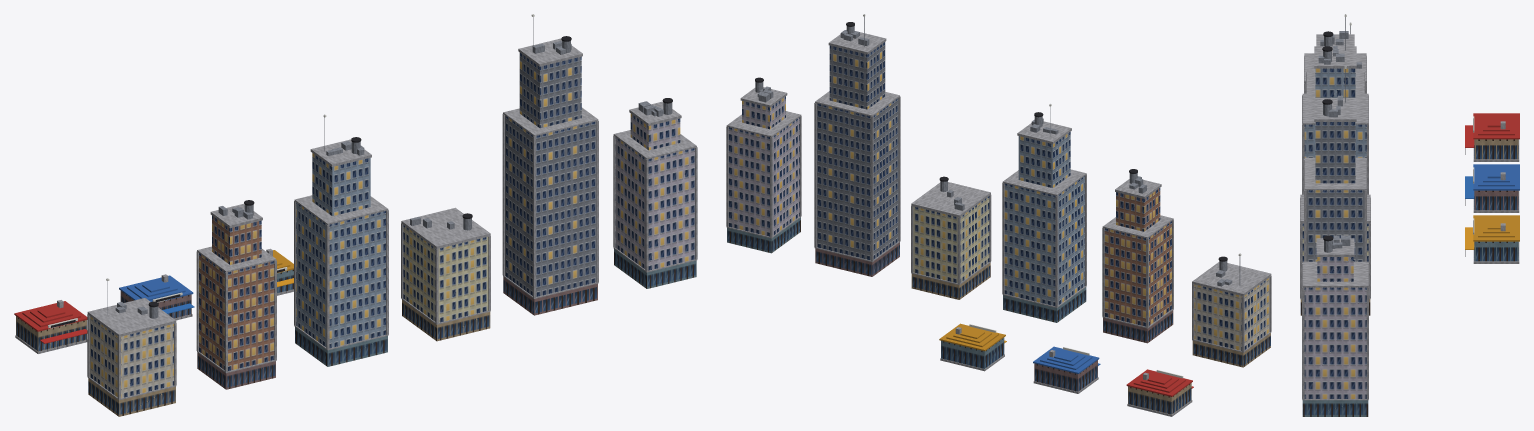
Rendered from buildings.glb.
3 renders of one model, left to right at view 1: azimuth 30°, elevation 25°; view 2: azimuth 150°, elevation 25°; view 3: azimuth 270°, elevation 25°, orthographic. The views are drawn at different scales.
Visible parts, largest first — view 1: Bld4, Bld2, Bld5, Bld1, Bld3, Bld0, Shop0, Shop1, Shop2; view 2: Bld4, Bld2, Bld5, Bld1, Bld3, Bld0, Shop1, Shop0, Shop2; view 3: Bld5, Bld4, Bld2, Shop0, Shop1, Shop2, Bld1, Bld3, Bld0.
Boxes of the visible parts, x1=… form: Bld4: x1=502, y1=14, x2=598, y2=315; Bld2: x1=294, y1=114, x2=388, y2=366; Bld5: x1=613, y1=98, x2=697, y2=288; Bld1: x1=196, y1=200, x2=276, y2=389; Bld3: x1=401, y1=207, x2=490, y2=341; Bld0: x1=87, y1=278, x2=176, y2=416; Shop0: x1=14, y1=300, x2=87, y2=353; Shop1: x1=119, y1=274, x2=194, y2=320; Shop2: x1=266, y1=248, x2=293, y2=295; Bld4: x1=814, y1=14, x2=900, y2=276; Bld2: x1=1002, y1=104, x2=1086, y2=322; Bld5: x1=726, y1=77, x2=801, y2=253; Bld1: x1=1102, y1=169, x2=1173, y2=343; Bld3: x1=911, y1=176, x2=991, y2=299; Bld0: x1=1192, y1=253, x2=1271, y2=367; Shop1: x1=1033, y1=346, x2=1100, y2=393; Shop0: x1=1126, y1=369, x2=1193, y2=416; Shop2: x1=939, y1=323, x2=1006, y2=371; Bld5: x1=1302, y1=235, x2=1368, y2=416; Bld4: x1=1304, y1=66, x2=1366, y2=261; Bld2: x1=1302, y1=14, x2=1368, y2=194; Shop0: x1=1465, y1=113, x2=1519, y2=161; Shop1: x1=1465, y1=164, x2=1519, y2=212; Shop2: x1=1465, y1=215, x2=1519, y2=263; Bld1: x1=1306, y1=31, x2=1364, y2=93; Bld3: x1=1300, y1=194, x2=1370, y2=315; Bld0: x1=1304, y1=22, x2=1366, y2=93.
Bounding box in the file's own units: 166 × 77.2 × 54.6.
Materials: 20 (20 with a texture image).
